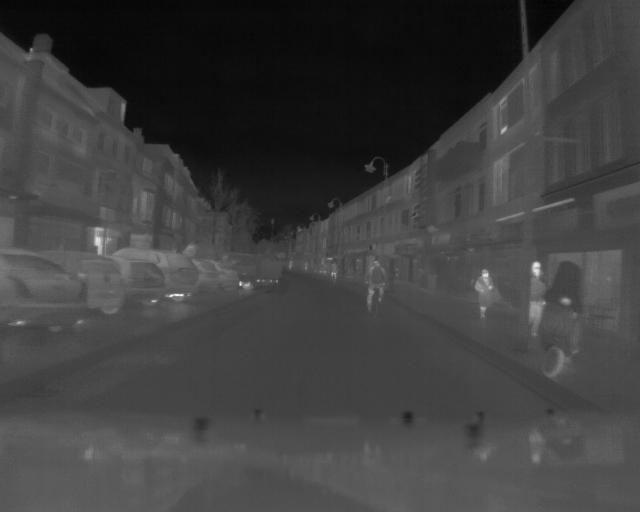byke: (538, 260, 588, 378)
car: (1, 252, 86, 337), (76, 252, 129, 329), (120, 260, 166, 310), (159, 251, 200, 304), (215, 261, 245, 294), (196, 261, 221, 291)
person: (527, 259, 547, 338), (362, 259, 386, 316), (474, 266, 497, 323)
